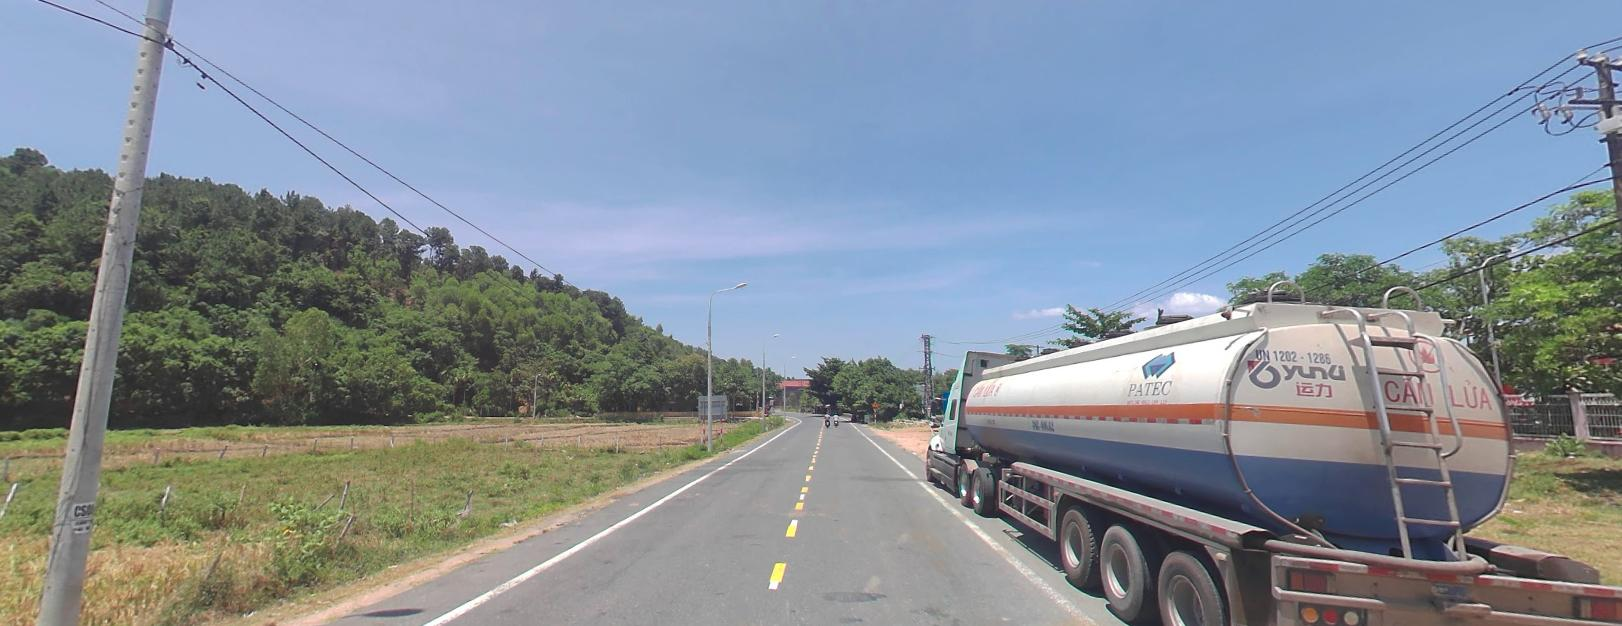Nguy hiem: (871, 399, 879, 406)
